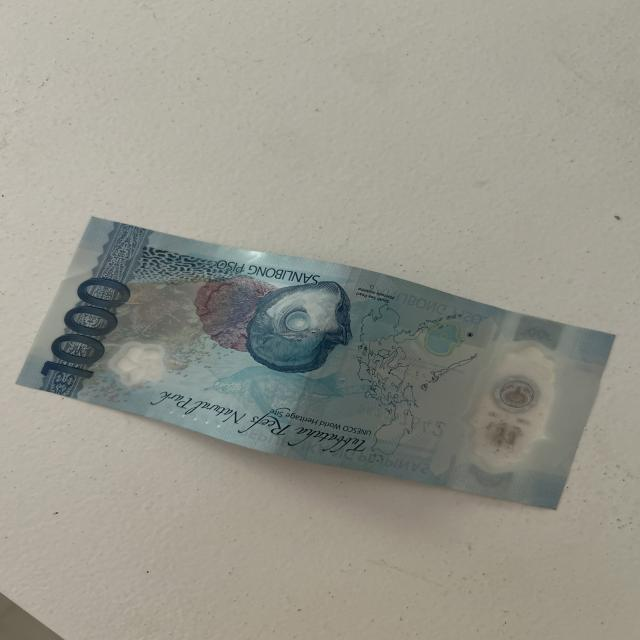clear_window: (442, 293, 566, 500)
sampaguita: (108, 340, 166, 388)
security_thread: (274, 268, 380, 459)
value: (40, 275, 129, 383)
